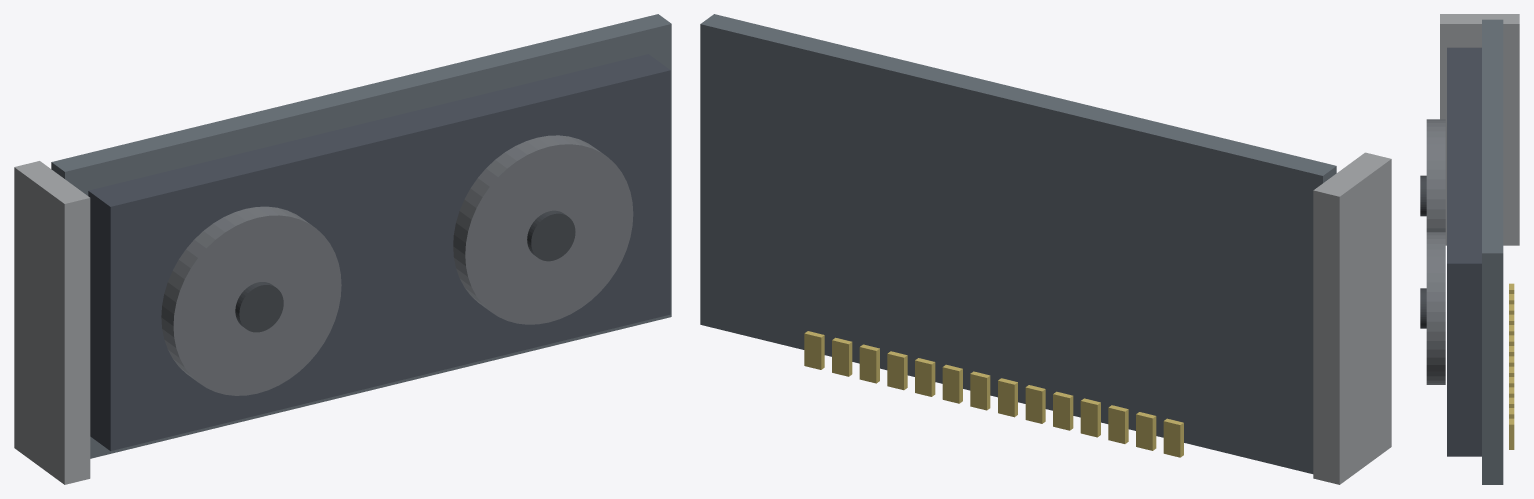
Rendered from gpu.glb.
3 views of the same model, side by side, from view 1: azimuth 30°, elevation 25°; view 2: azimuth 150°, elevation 25°; view 3: azimuth 270°, elevation 25° (orthographic). The views are drawn at different scales.
Parts seen in each view (by area): view 1: part_1, part_0, part_5, part_3, part_2, part_4, part_6; view 2: part_0, part_2, part_14, part_15, part_17, part_20, part_8, part_9, part_11, part_12, part_18, part_7 (+4 smaller); view 3: part_1, part_0, part_2, part_5, part_3, part_4, part_6, part_20.
Part boxes in pixels (<box>): part_1: <box>88,54,670,450</box>; part_0: <box>51,14,671,458</box>; part_5: <box>453,135,633,324</box>; part_3: <box>161,206,341,395</box>; part_2: <box>14,161,90,484</box>; part_4: <box>235,282,283,332</box>; part_6: <box>527,210,575,261</box>; part_0: <box>700,14,1336,473</box>; part_2: <box>1313,152,1391,484</box>; part_14: <box>970,371,990,410</box>; part_15: <box>942,364,962,403</box>; part_17: <box>887,351,907,390</box>; part_20: <box>804,331,824,369</box>; part_8: <box>1136,412,1156,450</box>; part_9: <box>1108,405,1128,443</box>; part_11: <box>1053,391,1073,430</box>; part_12: <box>1025,385,1045,423</box>; part_18: <box>859,344,879,383</box>; part_7: <box>1163,418,1183,457</box>; part_1: <box>1447,47,1481,456</box>; part_0: <box>1482,19,1503,484</box>; part_2: <box>1440,14,1519,245</box>; part_5: <box>1426,232,1445,384</box>; part_3: <box>1426,119,1445,231</box>; part_4: <box>1420,175,1426,216</box>; part_6: <box>1420,288,1426,328</box>; part_20: <box>1509,418,1514,449</box>.
Size of the model in its own units: 5.43 by 2.47 by 0.935.
